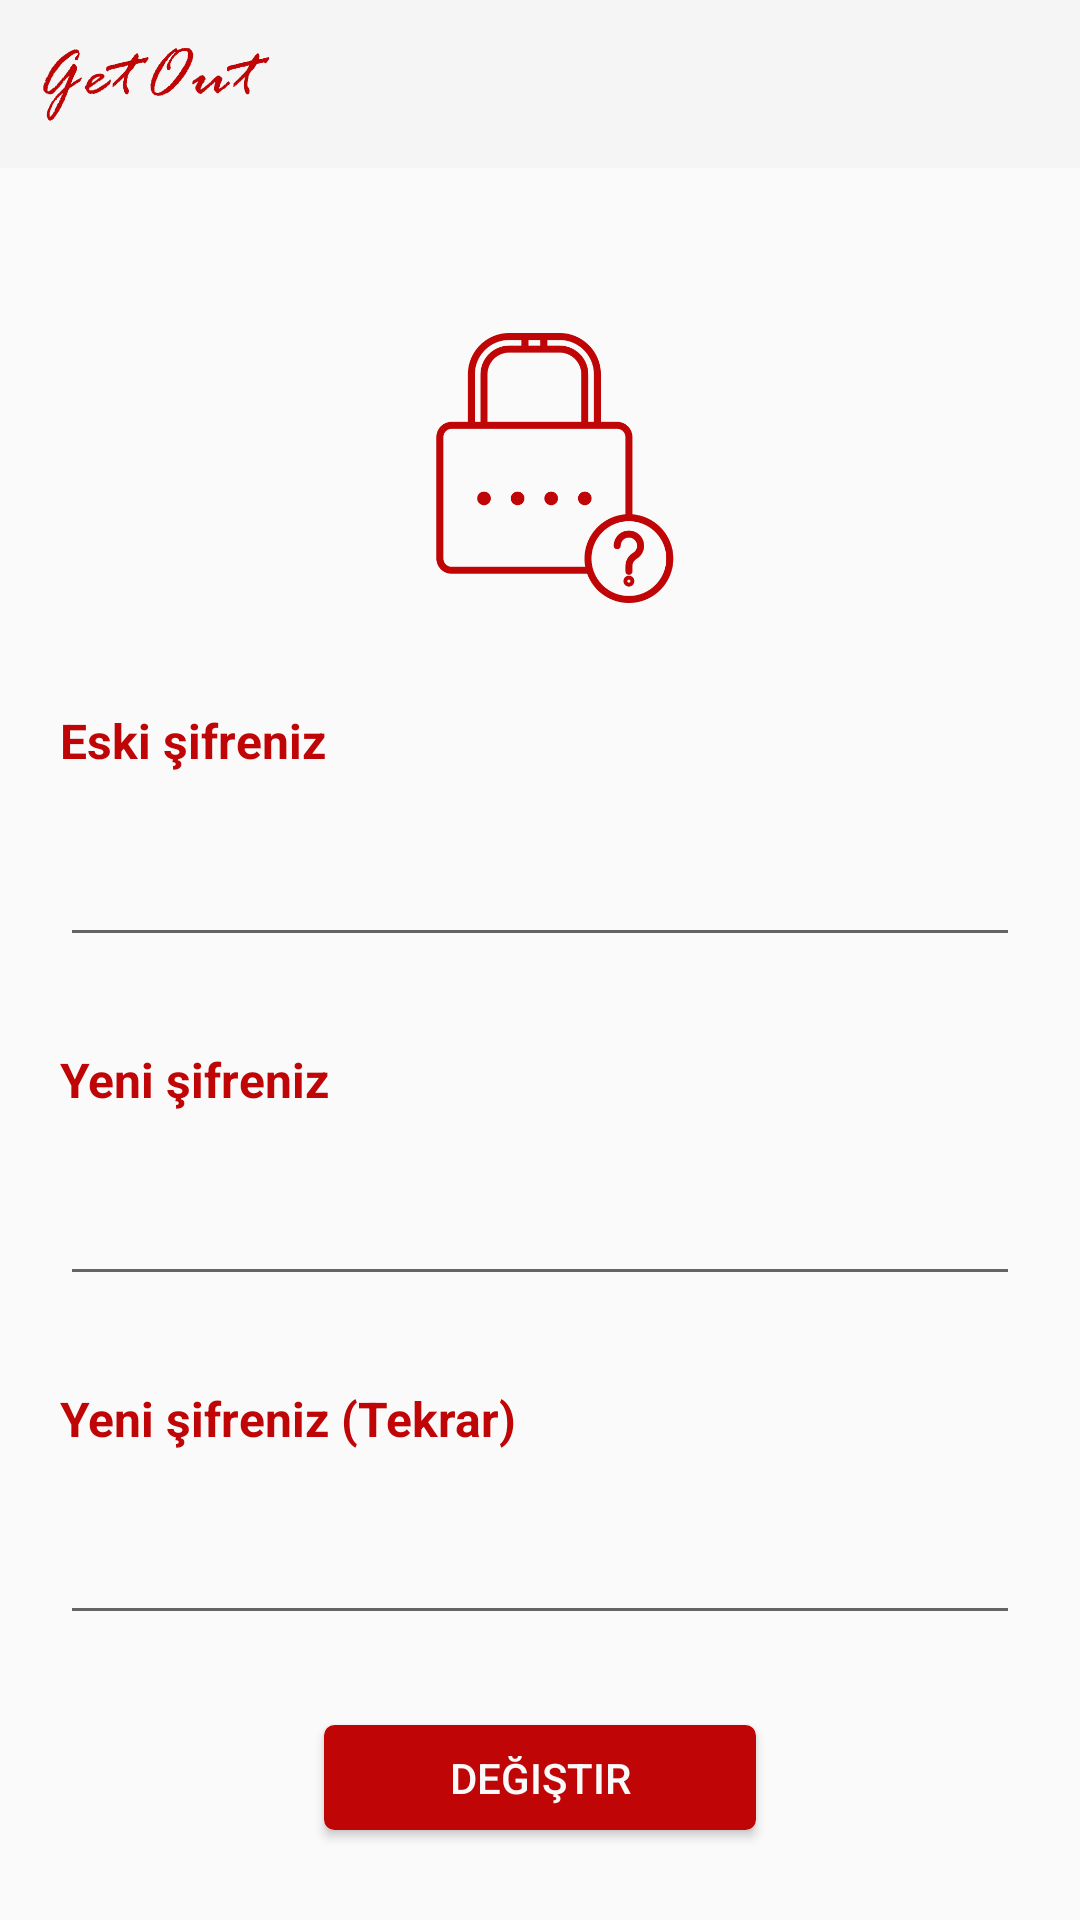

Screen size 1080x1920. Icon name, then its box in pixels as (left=x1, top=y1, right=x2, bottom=y2):
forgot: (left=436, top=333, right=674, bottom=603)
